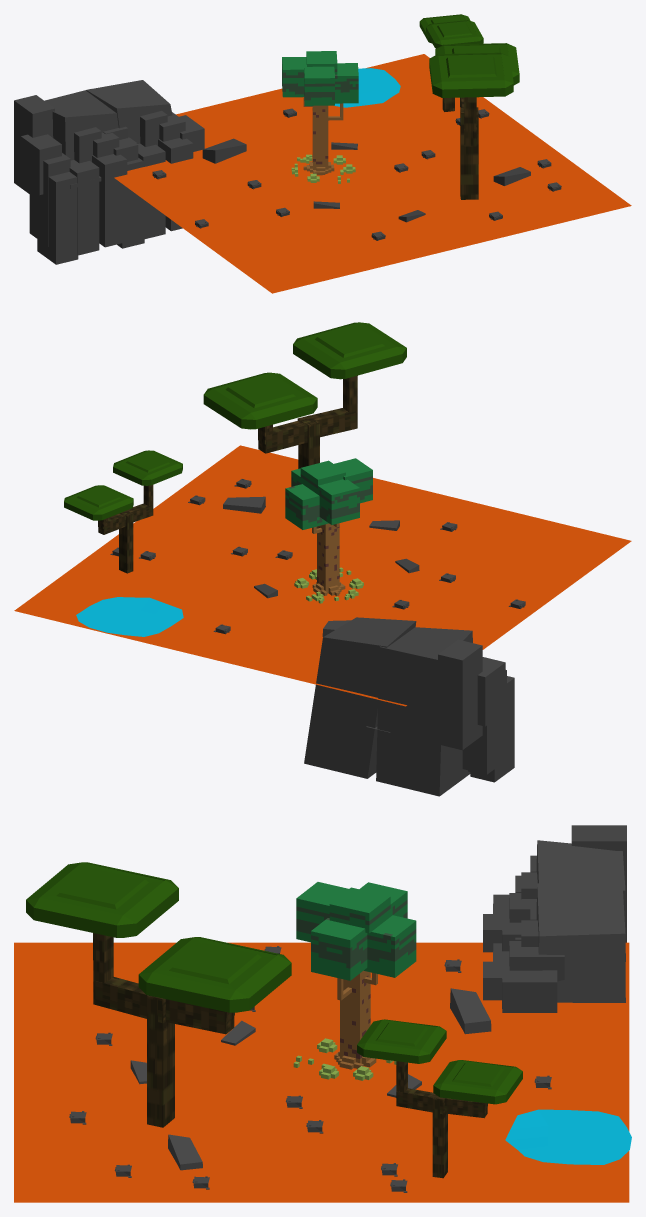
The model's file is top_right.glb.
3 renders of one model, top to bottom at view 1: azimuth 30°, elevation 25°; view 2: azimuth 150°, elevation 25°; view 3: azimuth 270°, elevation 25°, orthographic. The views are drawn at different scales.
Parts seen in each view (by area): view 1: TR, Mountain.009, Mountain.010, Cube.243, TREE 02.011, Cube.111, pond.002, Cube.242, Cube.241; view 2: TR, Mountain.009, Cube.243, Mountain.010, TREE 02.011, Cube.111, pond.002; view 3: TR, Cube.243, Mountain.010, TREE 02.011, Cube.111, Mountain.009, pond.002, Cube.242, Cube.241.
Boxes of the visible parts, x1,y1,x2,y2 form: TR: (114, 54, 631, 293); Mountain.009: (14, 90, 138, 264); Mountain.010: (86, 80, 204, 248); Cube.243: (429, 43, 519, 199); TREE 02.011: (282, 51, 358, 183); Cube.111: (419, 14, 483, 111); pond.002: (334, 68, 400, 107); Cube.242: (202, 138, 246, 163); Cube.241: (493, 167, 530, 185); TR: (14, 445, 631, 706); Mountain.009: (376, 627, 514, 796); Cube.243: (203, 322, 406, 468); Mountain.010: (304, 617, 416, 778); TREE 02.011: (285, 458, 372, 603); Cube.111: (64, 450, 182, 573); pond.002: (76, 597, 183, 636); TR: (14, 942, 629, 1202); Cube.243: (26, 862, 291, 1127); Mountain.010: (483, 883, 625, 1012); TREE 02.011: (293, 882, 416, 1080); Cube.111: (357, 1019, 522, 1178); Mountain.009: (483, 825, 626, 961); pond.002: (505, 1109, 631, 1164); Cube.242: (450, 988, 491, 1034); Cube.241: (168, 1134, 202, 1170).
Bounding box in the file's own units: 256 × 133 × 222.
Materials: 10 (2 with a texture image).
